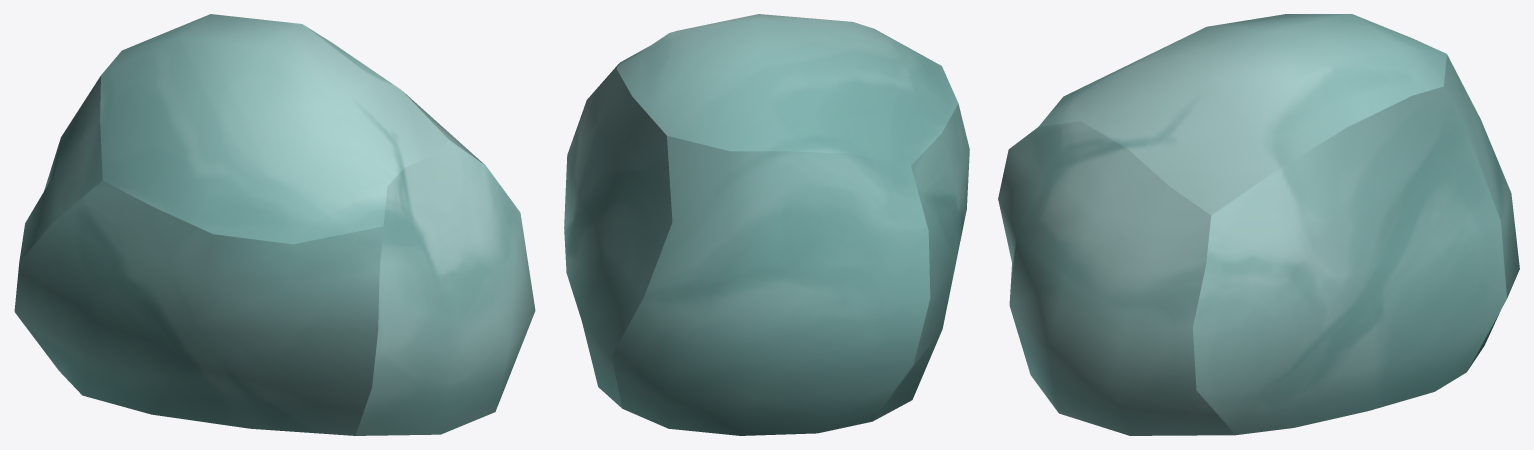
The model's file is Stone_3.FBX.
3 renders of one model, left to right at view 1: azimuth 30°, elevation 25°; view 2: azimuth 150°, elevation 25°; view 3: azimuth 270°, elevation 25°, orthographic. The views are drawn at different scales.
Visible parts, largest first — view 1: Box025; view 2: Box025; view 3: Box025.
Part boxes in pixels (bbox=[...]): Box025: bbox=[14, 14, 535, 435]; Box025: bbox=[564, 14, 969, 435]; Box025: bbox=[998, 14, 1519, 435].
Size of the model in its own units: 1.97 by 1.42 by 2.07.
